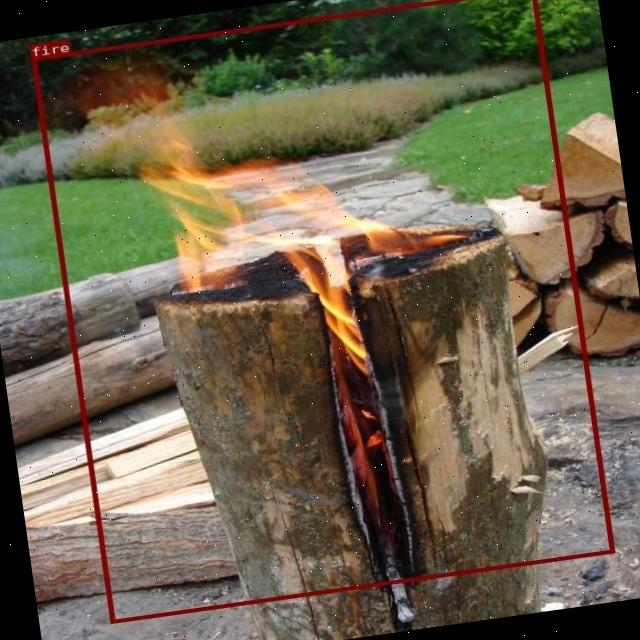fire: (29, 0, 614, 623)
